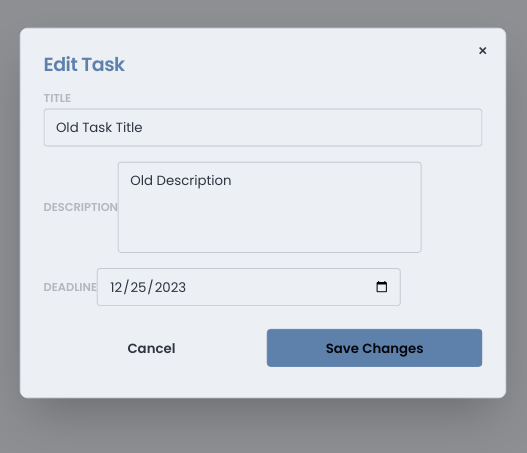
Test: EditTaskModal Integration › should render and match snapshots in different states
This screenshot has width=527, height=453.
Step 1. Clear the field labelled "Title" → (263, 128), box [44,108,482,146]
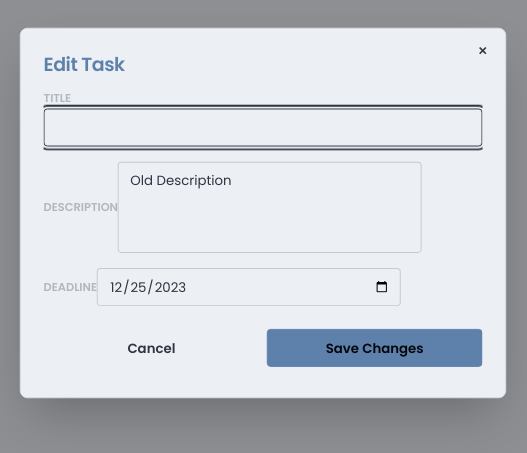
Step 2. Click the button "Save Changes" → (375, 348), box [267,329,482,367]
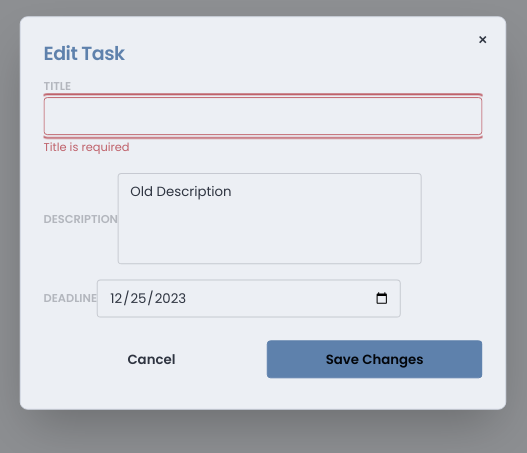
Check: the text "Title is required" is shown, box [44,139,130,155]
